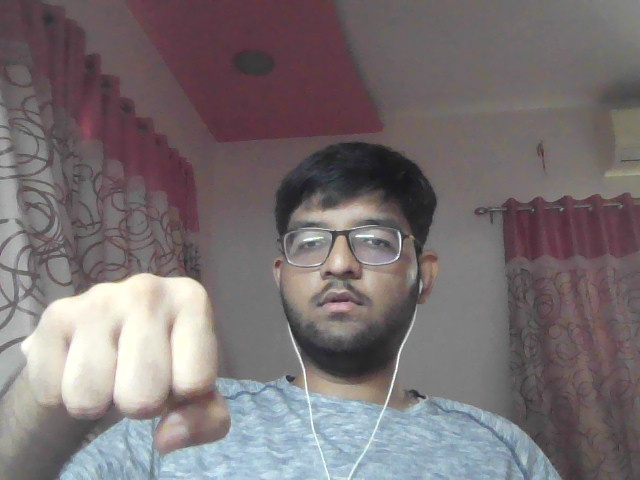હા: (19, 269, 253, 460)
